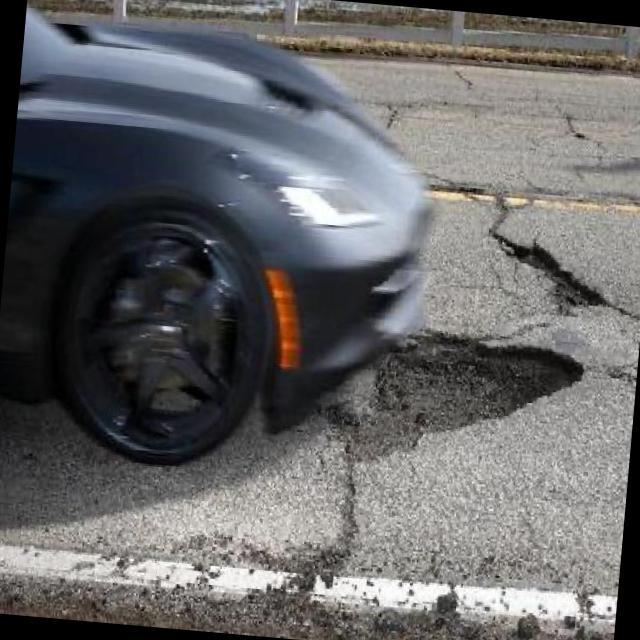Pothole: (353, 334, 583, 458), (490, 232, 610, 312)
